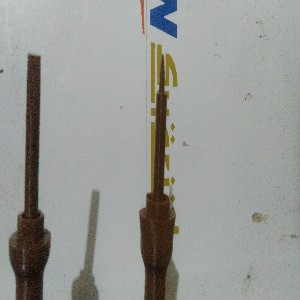obeng: (7, 51, 52, 300)
solder: (138, 53, 177, 300)
